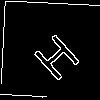H: (25, 25, 82, 83)
